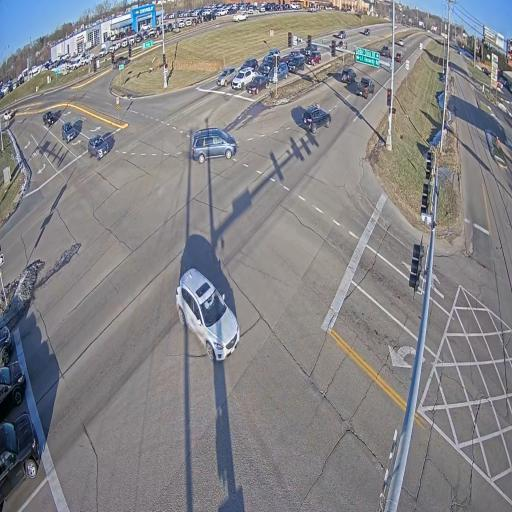pickup: (0, 413, 41, 512), (301, 103, 331, 134), (356, 76, 374, 99), (258, 55, 275, 75), (43, 110, 55, 127), (381, 46, 391, 57)
sedan: (0, 361, 26, 411), (246, 74, 269, 94)
suv: (176, 267, 240, 360), (88, 135, 111, 160), (232, 68, 256, 89), (0, 327, 12, 366), (216, 67, 237, 86), (268, 63, 289, 82), (62, 122, 78, 143), (288, 55, 305, 73), (340, 68, 357, 85), (281, 50, 300, 64), (242, 57, 258, 71), (307, 51, 321, 65), (304, 44, 318, 55), (333, 30, 345, 38), (269, 48, 280, 56), (397, 38, 404, 47), (395, 53, 402, 61), (364, 29, 370, 35)
van: (191, 128, 237, 163)
